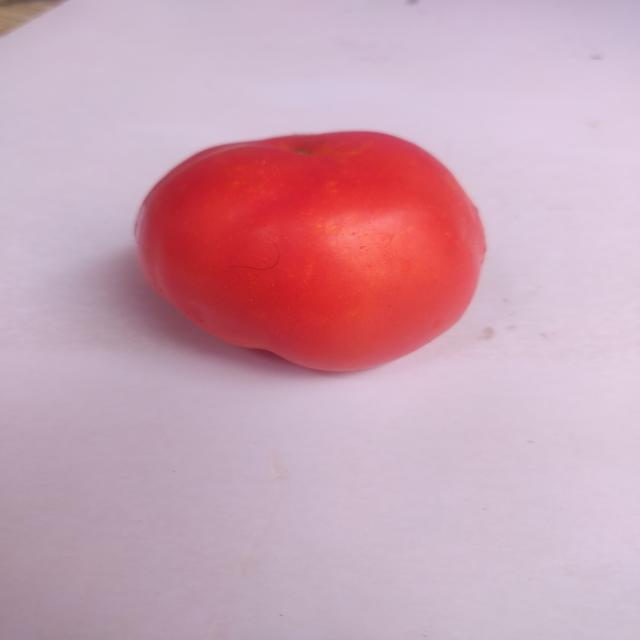Tomato: (125, 114, 496, 388)
